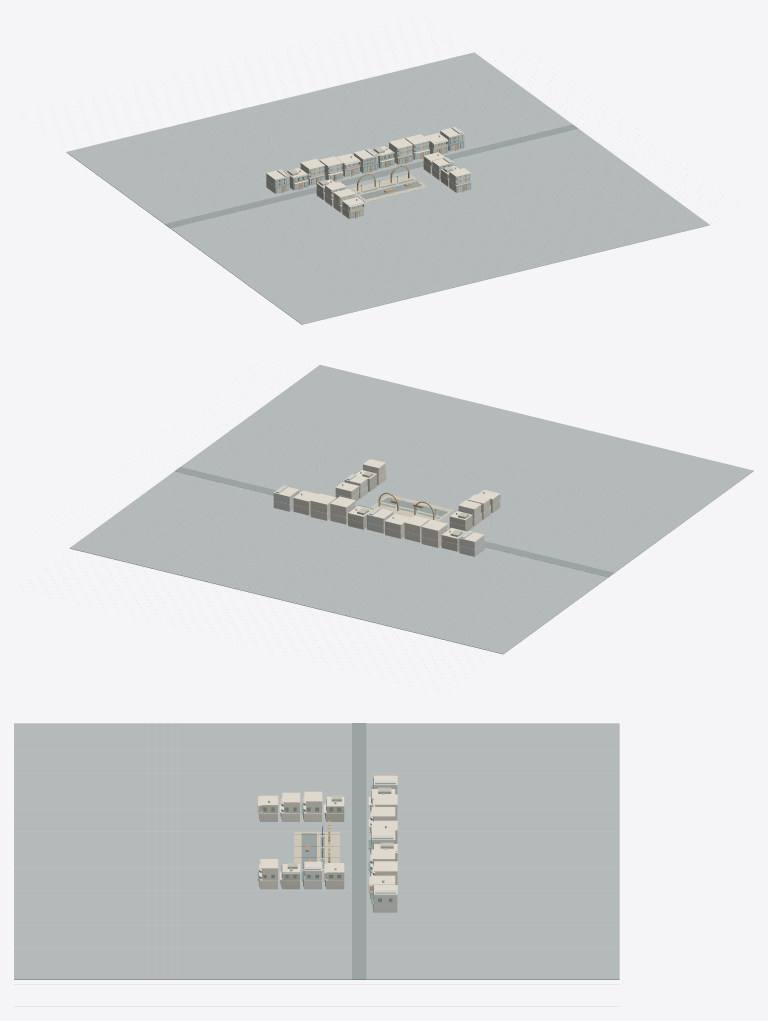
The model's file is room.glb.
3 renders of one model, top to bottom at view 1: azimuth 30°, elevation 25°; view 2: azimuth 150°, elevation 25°; view 3: azimuth 270°, elevation 25°, orthographic. The views are drawn at different scales.
Parts seen in each view (by area): view 1: continuous surrounding ground, flat roof coping, continuing side street, window glass, ground floor, ground floor.002, ground, ground floor.001, ground floor.004, recessed window, ground floor.003; view 2: continuous surrounding ground, flat roof coping, continuing side street, ground floor, ground floor.002, ground floor.001, ground floor.004, ground floor.003, ground; view 3: continuous surrounding ground, paving course, continuing side street, flat roof coping, ground floor, ground, ground floor.002, ground floor.001, ground floor.004, ground floor.003, folded shutter.
Part boxes in pixels (x1,y1,x2,y2): continuous surrounding ground: [66, 52, 709, 324]; flat roof coping: [266, 127, 471, 217]; continuing side street: [165, 124, 578, 227]; window glass: [276, 135, 469, 217]; ground floor: [266, 126, 464, 193]; ground floor.002: [300, 143, 471, 206]; ground: [349, 174, 427, 202]; ground floor.001: [287, 147, 453, 200]; ground floor.004: [342, 141, 448, 218]; recessed window: [276, 135, 470, 217]; ground floor.003: [320, 139, 429, 212]; continuous surrounding ground: [69, 365, 753, 654]; flat roof coping: [273, 459, 500, 542]; continuing side street: [174, 467, 613, 576]; ground floor: [273, 474, 484, 556]; ground floor.002: [330, 464, 481, 547]; ground floor.001: [348, 471, 472, 551]; ground floor.004: [293, 487, 500, 538]; ground floor.003: [310, 499, 490, 542]; ground: [369, 494, 453, 521]; continuous surrounding ground: [14, 723, 619, 979]; paving course: [14, 723, 619, 1006]; continuing side street: [301, 723, 366, 979]; flat roof coping: [258, 775, 397, 909]; ground floor: [304, 781, 397, 912]; ground: [294, 831, 339, 870]; ground floor.002: [259, 795, 397, 889]; ground floor.001: [282, 787, 397, 889]; ground floor.004: [258, 805, 397, 901]; ground floor.003: [281, 796, 397, 884]; folded shutter: [257, 778, 392, 903].
Size of the model in its own units: 140 by 5.01 by 154.
